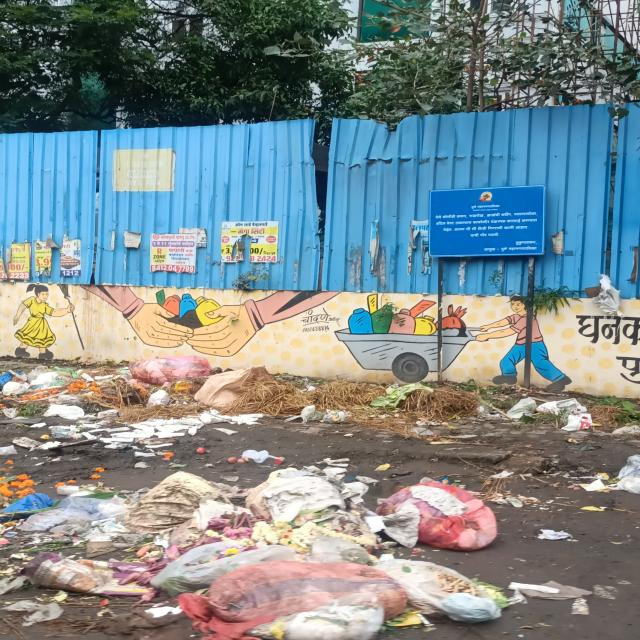garbage: (4, 475, 519, 640), (4, 359, 292, 449), (293, 384, 640, 436)
